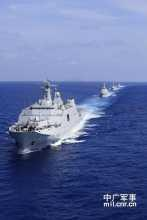warship: (9, 80, 86, 155), (100, 80, 111, 101)
